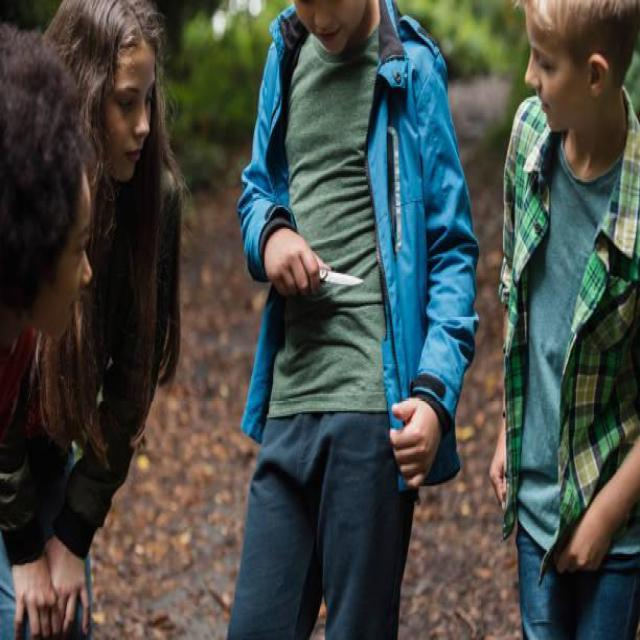faca: (248, 202, 372, 304)
